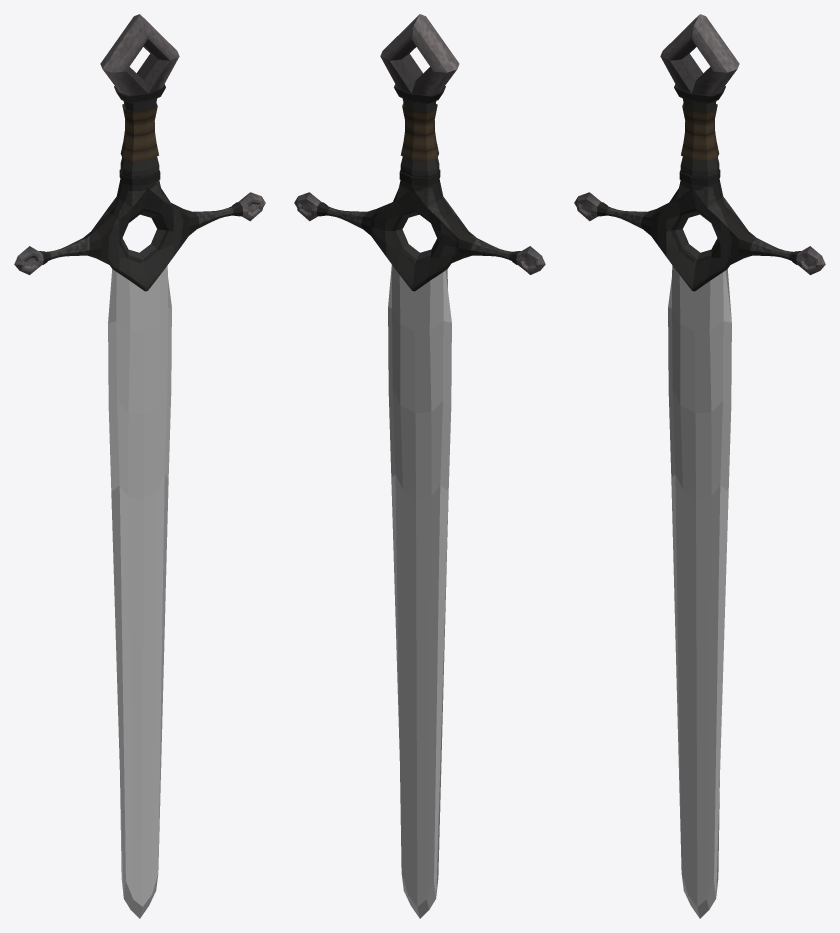
File: Sword.fbx
The picture shows the model from 3 angles, left to right: view 1: azimuth 30°, elevation 25°; view 2: azimuth 150°, elevation 25°; view 3: azimuth 330°, elevation 25°; orthographic projection.
Parts seen in each view (by area): view 1: Sword; view 2: Sword; view 3: Sword.
Boxes of the visible parts, x1=… form: Sword: x1=14, y1=14, x2=265, y2=918; Sword: x1=294, y1=14, x2=545, y2=918; Sword: x1=574, y1=14, x2=825, y2=918.
Bounding box in the file's own units: 1477 × 5074 × 197.
Materials: 2 (1 with a texture image).
